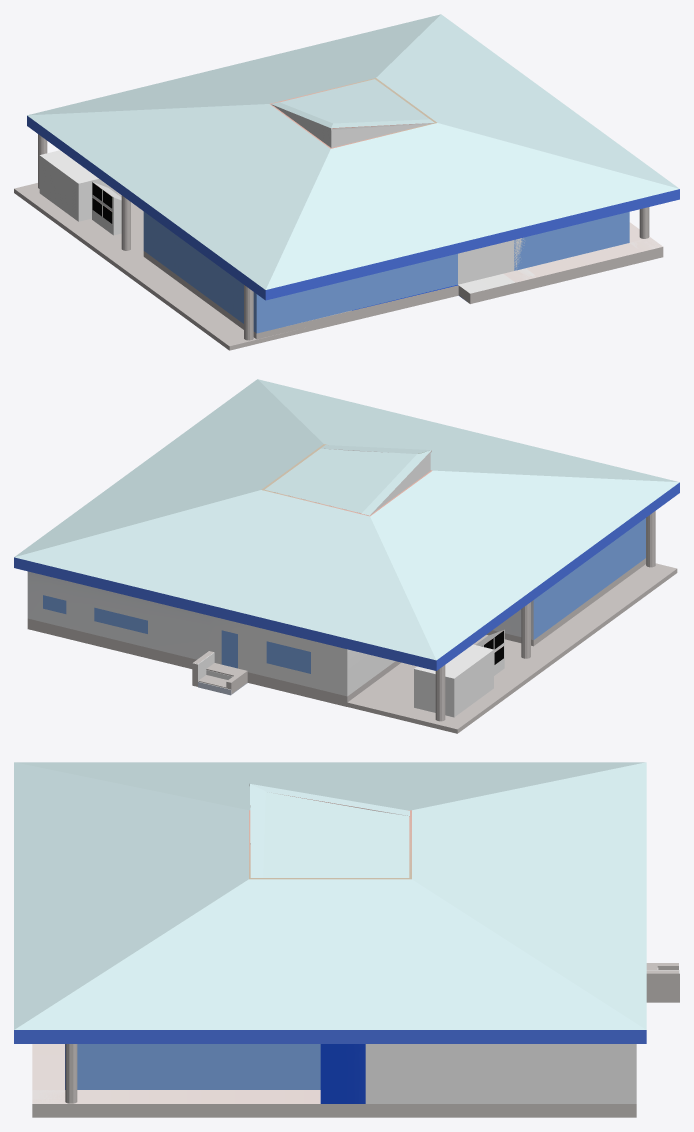
File: syoku.glb
3 renders of one model, top to bottom at view 1: azimuth 30°, elevation 25°; view 2: azimuth 150°, elevation 25°; view 3: azimuth 270°, elevation 25°, orthographic. The views are drawn at different scales.
Visible parts, largest first — view 1: 食堂・屋根・土台, 食堂, 立方体.014, 食堂・屋根・上の部分, 立方体.365, 立方体.366, 立方体.356, 平面.001, 平面.004; view 2: 食堂・屋根・土台, 食堂, 立方体.014, 食堂・屋根・上の部分, 立方体.365, 立方体.387, 立方体.357, 平面.002, 平面.001, 平面.004; view 3: 食堂・屋根・土台, 食堂, 食堂・屋根・上の部分, 立方体.356, 立方体.387, 立方体.357, 平面.003.
Part boxes in pixels (bbox=[...]): 食堂・屋根・土台: bbox=[27, 14, 679, 300]; 食堂: bbox=[143, 211, 663, 339]; 立方体.014: bbox=[14, 183, 351, 350]; 食堂・屋根・上の部分: bbox=[275, 79, 429, 147]; 立方体.365: bbox=[39, 150, 117, 221]; 立方体.366: bbox=[92, 182, 121, 235]; 立方体.356: bbox=[331, 119, 434, 129]; 平面.001: bbox=[121, 195, 130, 250]; 平面.004: bbox=[244, 285, 253, 340]; 食堂・屋根・土台: bbox=[14, 379, 679, 670]; 食堂: bbox=[27, 518, 645, 706]; 立方体.014: bbox=[347, 563, 677, 733]; 食堂・屋根・上の部分: bbox=[265, 448, 430, 513]; 立方体.365: bbox=[414, 644, 493, 717]; 立方体.387: bbox=[193, 651, 247, 694]; 立方体.357: bbox=[362, 450, 431, 515]; 平面.002: bbox=[435, 665, 445, 721]; 平面.001: bbox=[521, 602, 530, 658]; 平面.004: bbox=[646, 511, 655, 567]; 食堂・屋根・土台: bbox=[14, 762, 646, 1043]; 食堂: bbox=[32, 968, 679, 1117]; 食堂・屋根・上の部分: bbox=[263, 792, 409, 877]; 立方体.356: bbox=[250, 784, 265, 877]; 立方体.387: bbox=[646, 963, 678, 1002]; 立方体.357: bbox=[249, 784, 409, 816]; 平面.003: bbox=[65, 1044, 77, 1103].
Size of the model in its own units: 6.74 by 1.95 by 6.8.
1 material, 1 textured.
